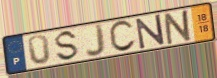0: (27, 34, 52, 67)
C: (108, 19, 138, 54)
J: (84, 23, 107, 58)
N: (134, 13, 167, 51), (163, 8, 194, 47)
S: (54, 29, 81, 63)
